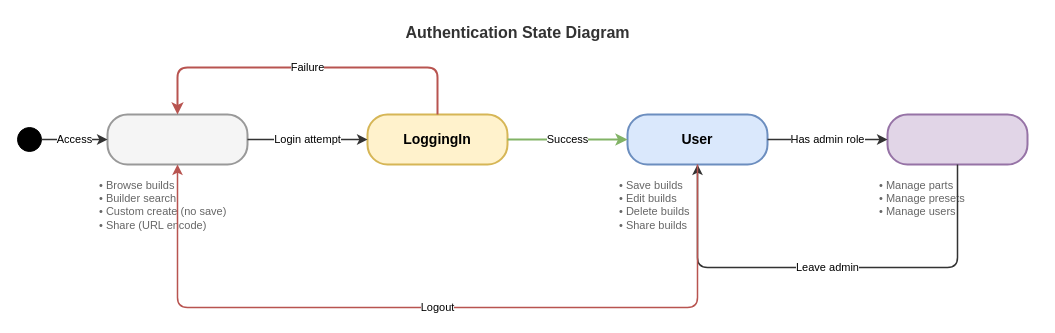
The diagram is 1055 pixels wide and 333 high, and some of its shapes have lost their labels. The centre of each missing label's shape, as x and y in pixels:
"Admin" belongs at [957,139].
"Guest" belongs at [177,139].
